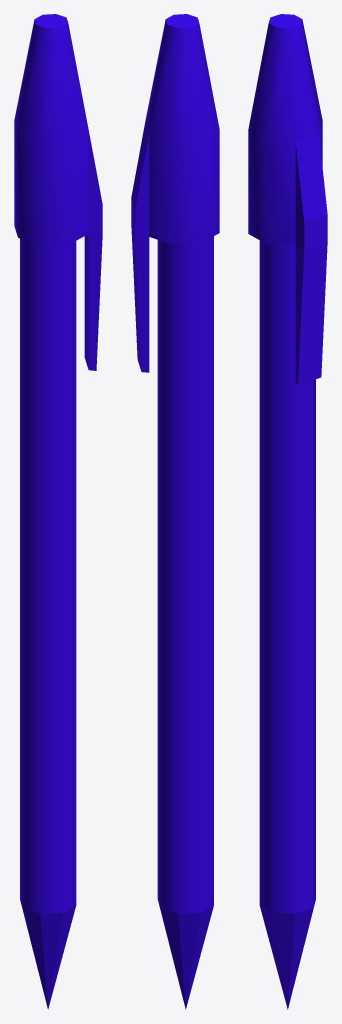
File: office_pack_ballpointPen_2_meshCollider.fbx
3 views of the same model, side by side, from view 1: azimuth 30°, elevation 25°; view 2: azimuth 210°, elevation 25°; view 3: azimuth 330°, elevation 25° (orthographic).
Parts seen in each view (by area): view 1: office_pack_ballpointPen_2_meshCollider, office_pack_ballpointPen_2_cap_meshCollider; view 2: office_pack_ballpointPen_2_meshCollider, office_pack_ballpointPen_2_cap_meshCollider; view 3: office_pack_ballpointPen_2_meshCollider, office_pack_ballpointPen_2_cap_meshCollider.
Part boxes in pixels (left/top/right/bottom): office_pack_ballpointPen_2_meshCollider: left=20, top=238, right=76, bottom=1009; office_pack_ballpointPen_2_cap_meshCollider: left=14, top=14, right=102, bottom=370; office_pack_ballpointPen_2_meshCollider: left=157, top=236, right=213, bottom=1009; office_pack_ballpointPen_2_cap_meshCollider: left=131, top=14, right=219, bottom=372; office_pack_ballpointPen_2_meshCollider: left=259, top=240, right=315, bottom=1009; office_pack_ballpointPen_2_cap_meshCollider: left=248, top=14, right=327, bottom=384.
Bounding box in the file's own units: 2.13 × 25.85 × 1.82.
